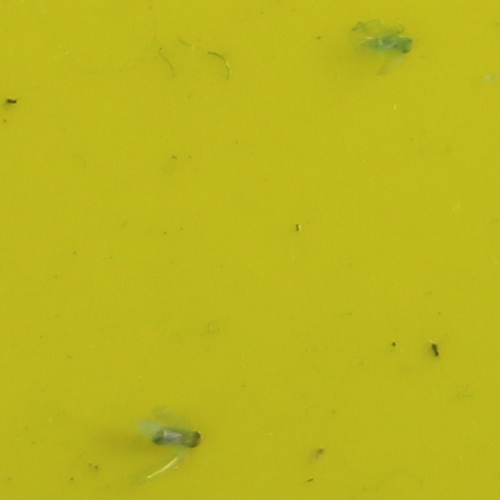cicada: (176, 426, 200, 448), (393, 31, 416, 53)
